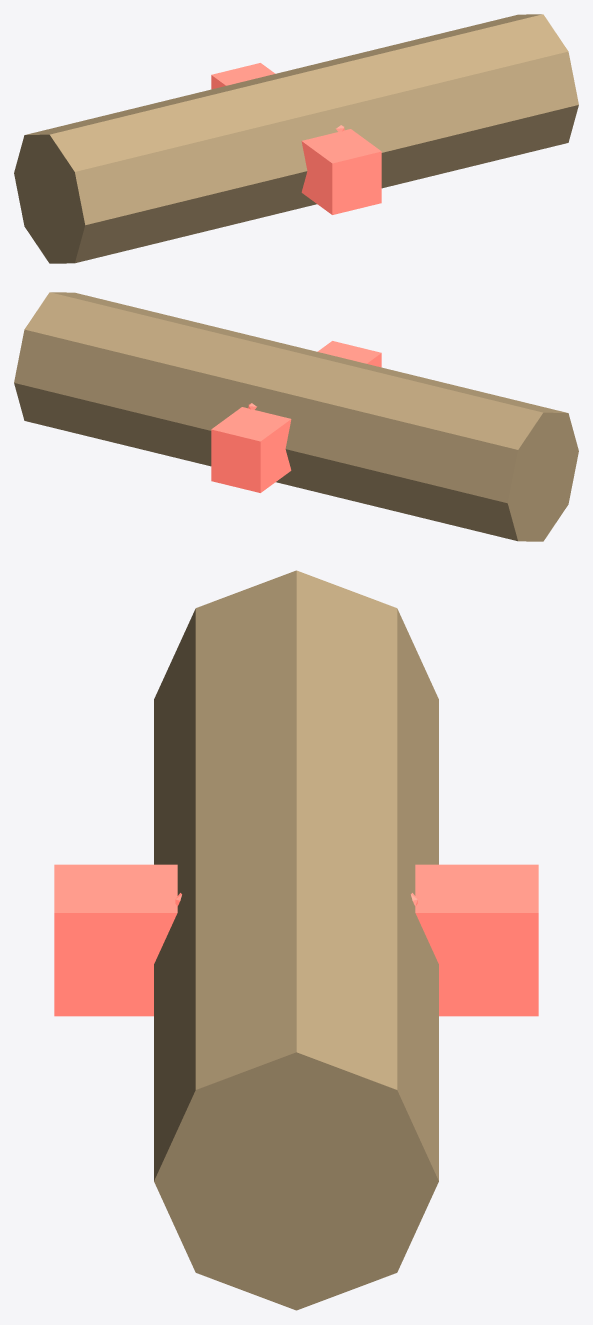
File: scroll.glb
3 views of the same model, one above another, from view 1: azimuth 30°, elevation 25°; view 2: azimuth 150°, elevation 25°; view 3: azimuth 270°, elevation 25° (orthographic). The views are drawn at different scales.
Parts seen in each view (by area): view 1: Scroll, ScrollRibbon; view 2: Scroll, ScrollRibbon; view 3: Scroll, ScrollRibbon.
Part boxes in pixels (bbox=[...]): Scroll: bbox=[14, 14, 578, 263]; ScrollRibbon: bbox=[211, 63, 381, 214]; Scroll: bbox=[14, 292, 578, 541]; ScrollRibbon: bbox=[211, 341, 381, 492]; Scroll: bbox=[154, 570, 438, 1310]; ScrollRibbon: bbox=[54, 864, 538, 1016].
Bounding box in the file's own units: 0.8 × 0.2 × 0.34.
